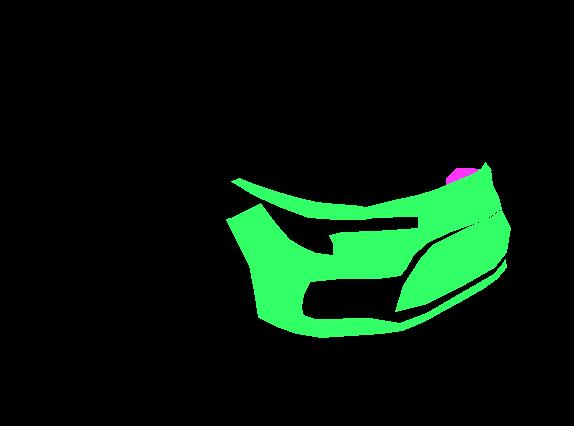Broken part: (226, 168, 506, 337), (231, 162, 491, 219), (395, 209, 510, 311)
Dent: (446, 168, 485, 189)
